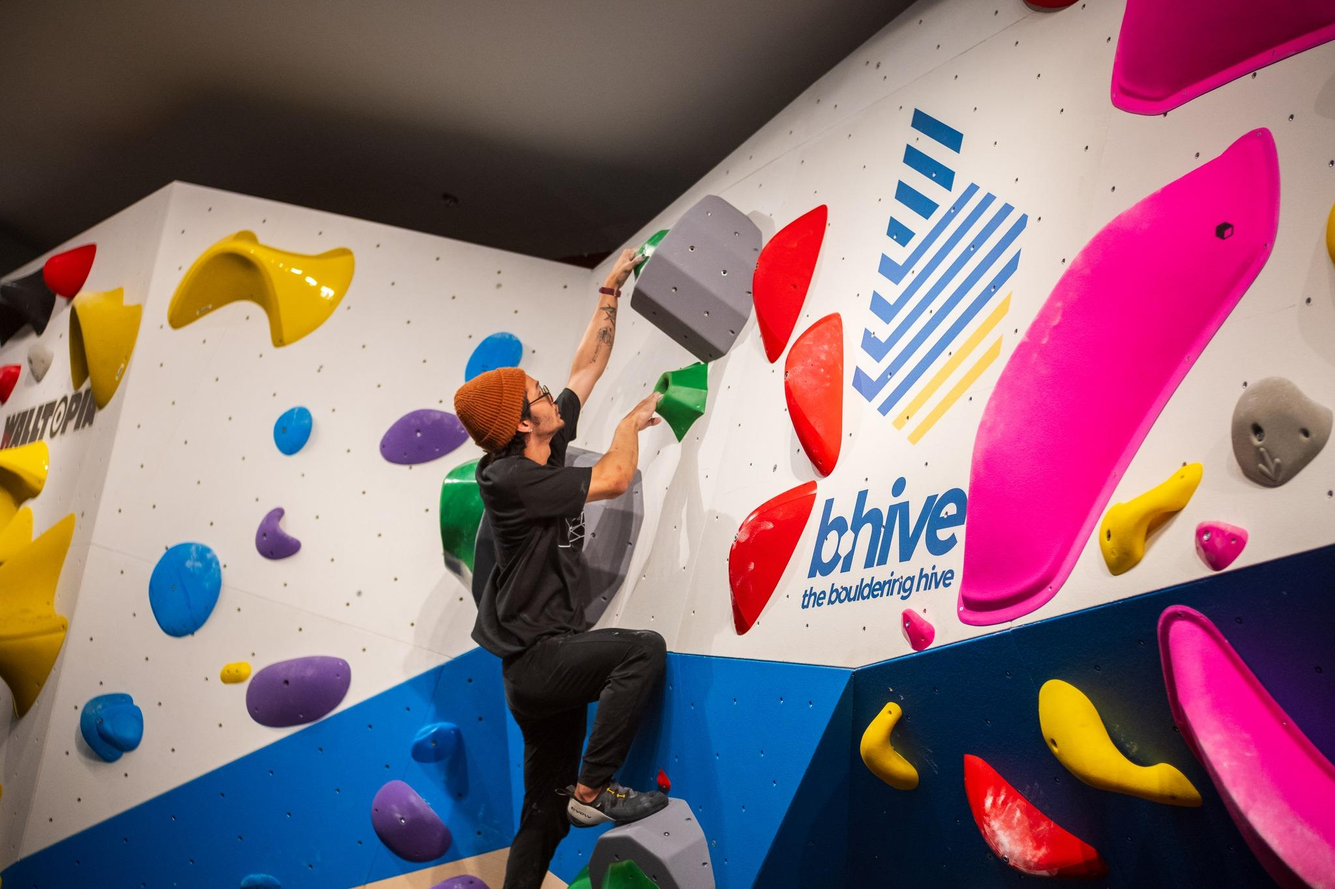black-hold: (877, 79, 1325, 656), (1105, 585, 1335, 889), (1012, 671, 1209, 848), (618, 184, 795, 370), (165, 220, 357, 357), (929, 749, 1112, 889), (1111, 0, 1334, 114), (697, 461, 825, 639), (1079, 437, 1212, 582), (731, 191, 832, 367), (1207, 363, 1335, 501), (0, 509, 75, 719), (589, 798, 714, 888), (355, 772, 459, 879), (64, 285, 143, 411), (783, 313, 843, 476), (240, 650, 357, 732), (371, 396, 471, 477), (68, 680, 156, 768), (849, 700, 921, 800), (150, 543, 220, 636), (439, 459, 483, 571), (651, 360, 708, 442), (35, 230, 99, 302), (0, 441, 49, 526), (1186, 515, 1250, 577), (455, 327, 527, 381), (244, 505, 303, 568), (263, 400, 323, 459), (0, 504, 47, 568), (406, 718, 465, 766), (624, 222, 669, 277), (893, 601, 940, 653), (602, 860, 658, 888), (603, 860, 658, 888), (22, 339, 55, 383), (218, 660, 252, 685), (0, 364, 21, 404), (432, 875, 488, 888), (241, 873, 281, 888), (652, 768, 673, 795), (568, 865, 591, 888), (1326, 205, 1334, 261), (1025, 0, 1076, 8)
